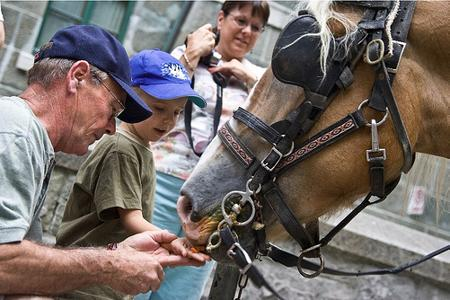person: (54, 49, 210, 300)
